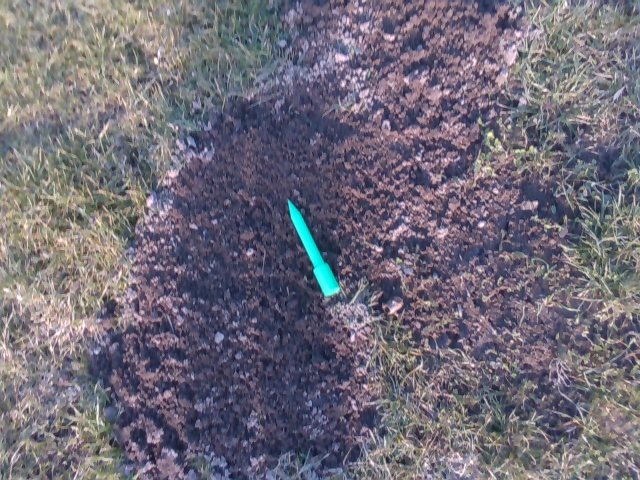Probe: (280, 197, 344, 299)
